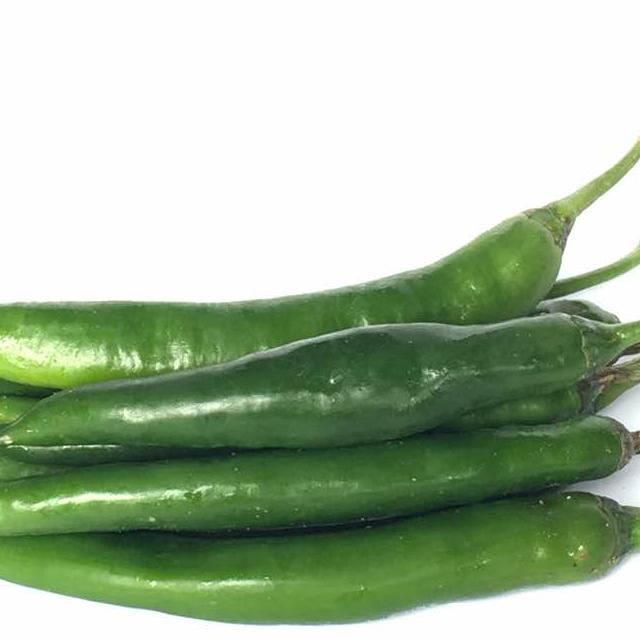chili_pepper: (0, 135, 640, 388), (0, 313, 640, 450), (0, 493, 640, 624), (0, 416, 634, 536)
